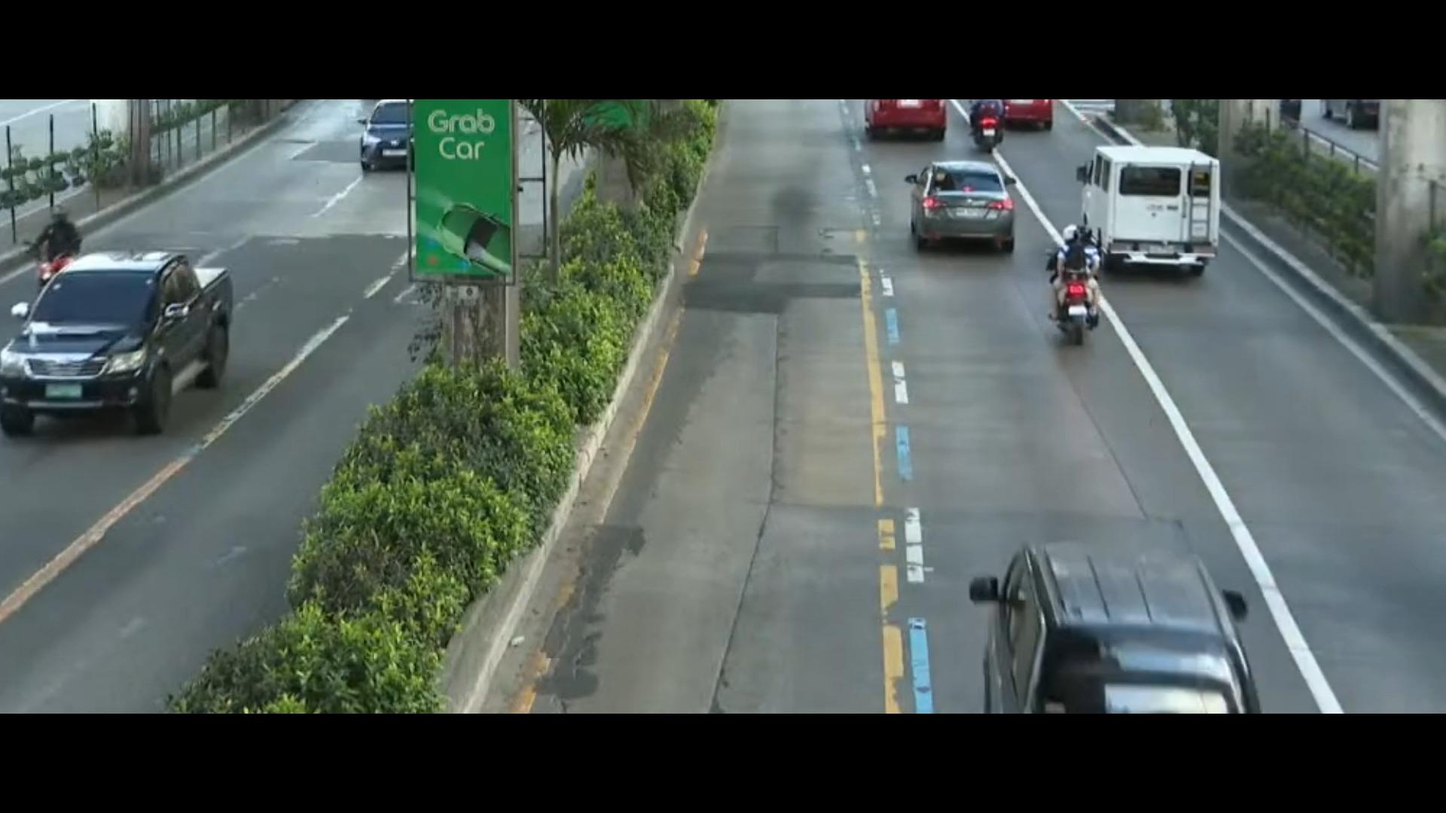Motorcycle: (1034, 228, 1119, 358), (22, 202, 125, 282), (957, 104, 1036, 149)
Multicab: (1066, 139, 1247, 282)
Pickup: (0, 254, 277, 449)
SUV: (949, 503, 1275, 717), (358, 104, 417, 177)
Sedan: (904, 147, 1019, 249)
